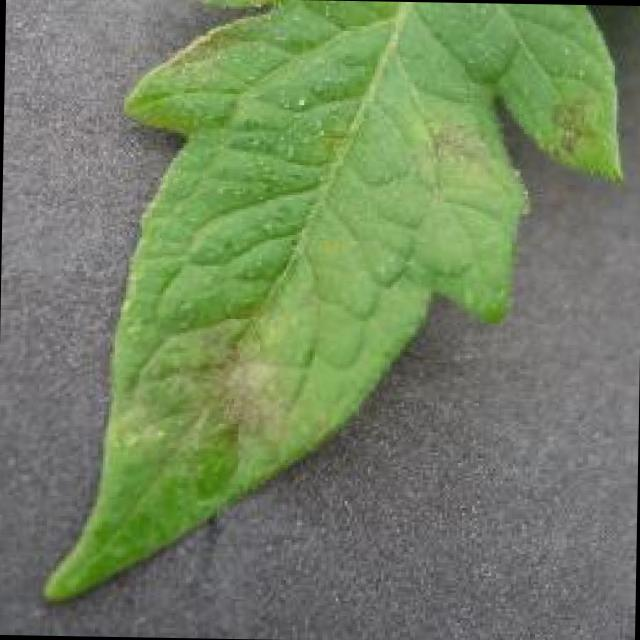Tomato_Late_Blight: (162, 290, 312, 501)
